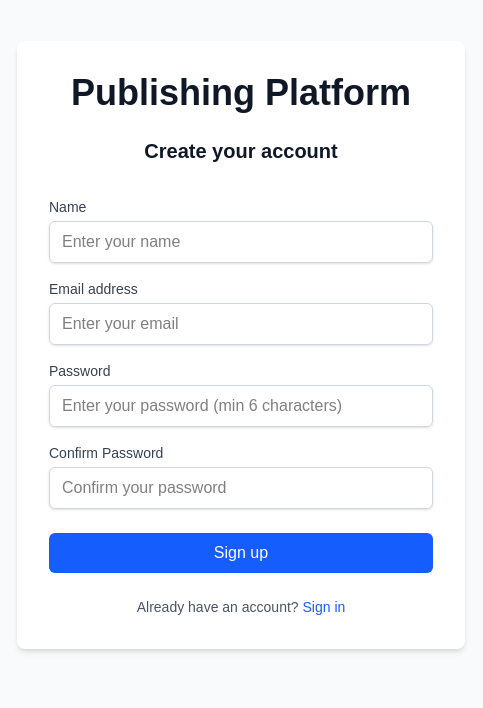
RegisterPage › should show error if passwords do not match
Type "Test User" into the field labelled "Name" at {"x": 241, "y": 242}, box [49, 221, 433, 263]
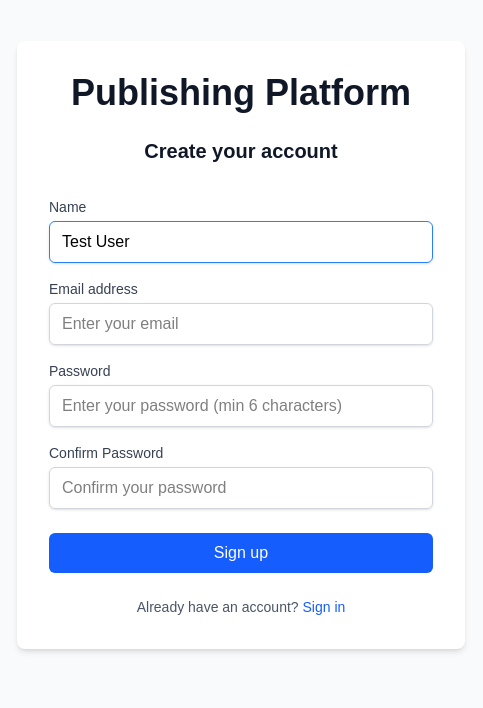
Type "test@example.com" into the field labelled "Email address" at {"x": 241, "y": 324}, box [49, 303, 433, 345]
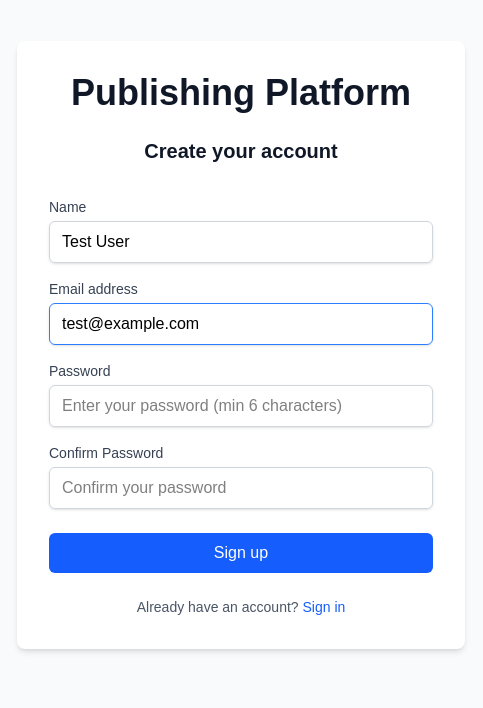
Type "password123" into the password field labelled "Password" at {"x": 241, "y": 406}, box [49, 385, 433, 427]
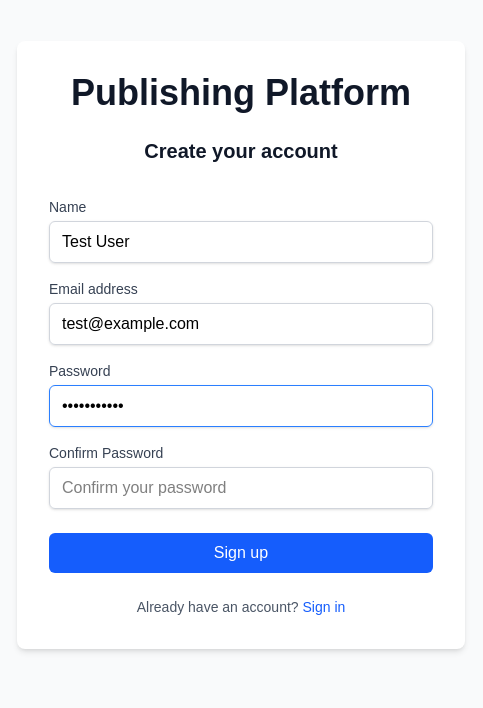
Type "password456" into the password field labelled "Confirm Password" at {"x": 241, "y": 488}, box [49, 467, 433, 509]
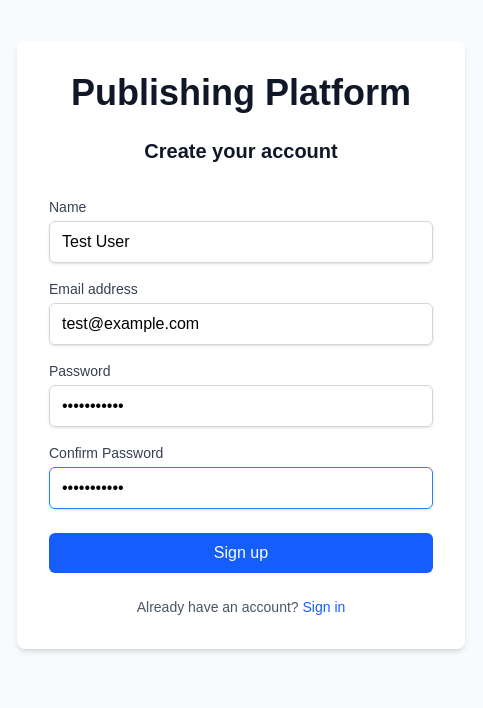
Click the button "Sign up" at {"x": 241, "y": 553}, box [49, 533, 433, 573]
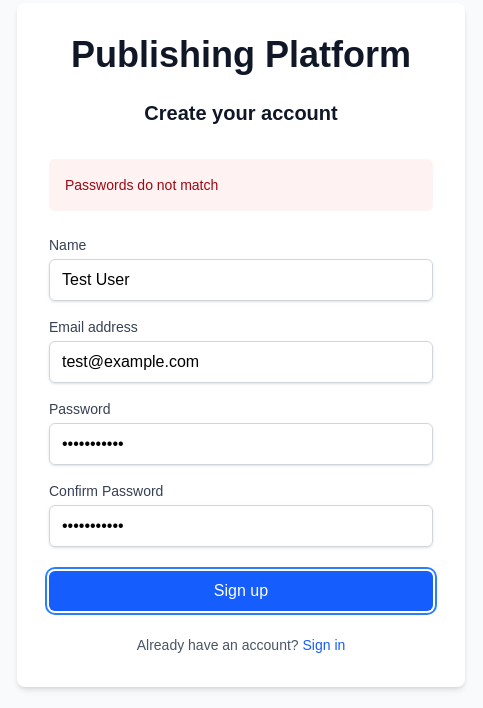
Expected: the text "Passwords do not match" is shown, [65, 177, 218, 193]
